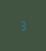three: (19, 20, 25, 30)
